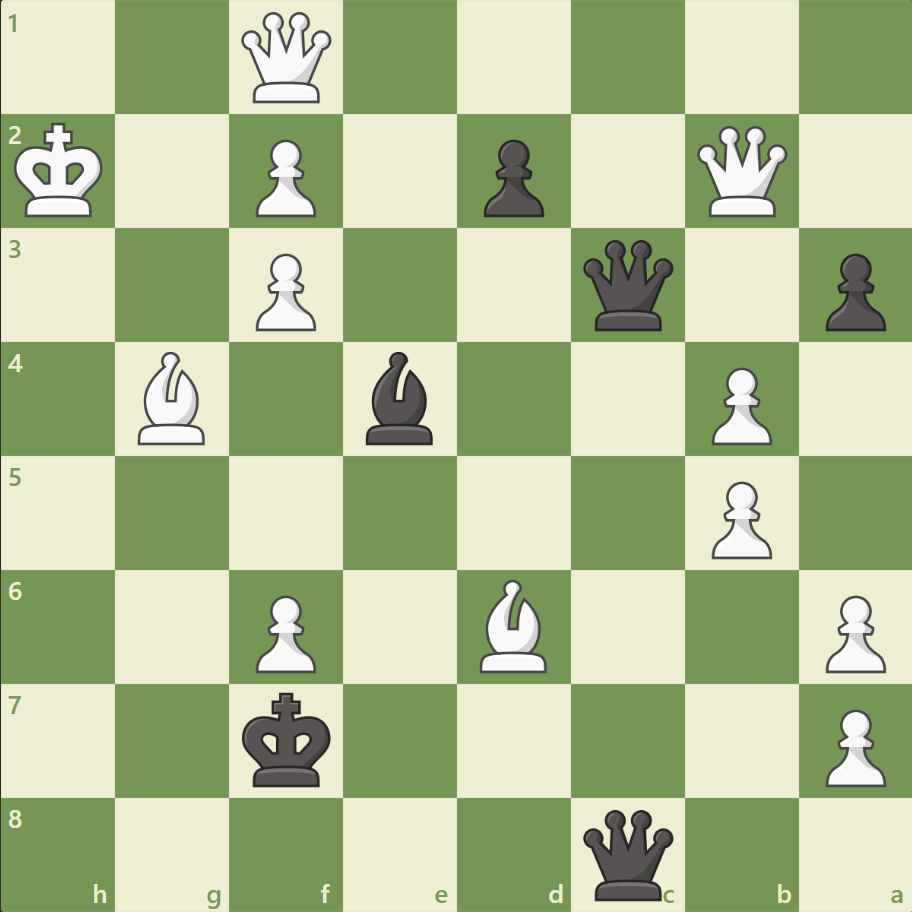B: (471, 574, 555, 676), (131, 347, 215, 449)
K: (11, 117, 111, 225)
P: (247, 586, 322, 677), (701, 473, 776, 564), (701, 359, 776, 450), (247, 246, 322, 337), (247, 132, 322, 223), (815, 700, 889, 791), (815, 586, 889, 677)
Q: (691, 122, 790, 222), (237, 9, 336, 108)
b: (358, 347, 442, 449)
k: (238, 685, 338, 793)
p: (474, 132, 549, 223), (815, 246, 889, 337)
q: (578, 804, 677, 903), (578, 236, 677, 335)
